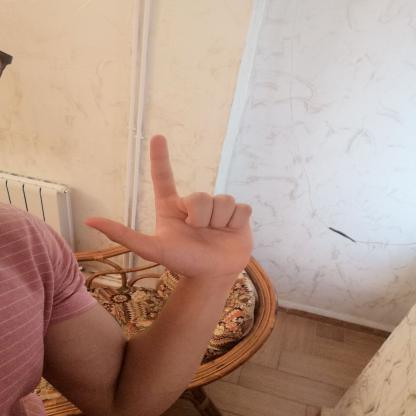LAAM: (65, 123, 269, 289)
